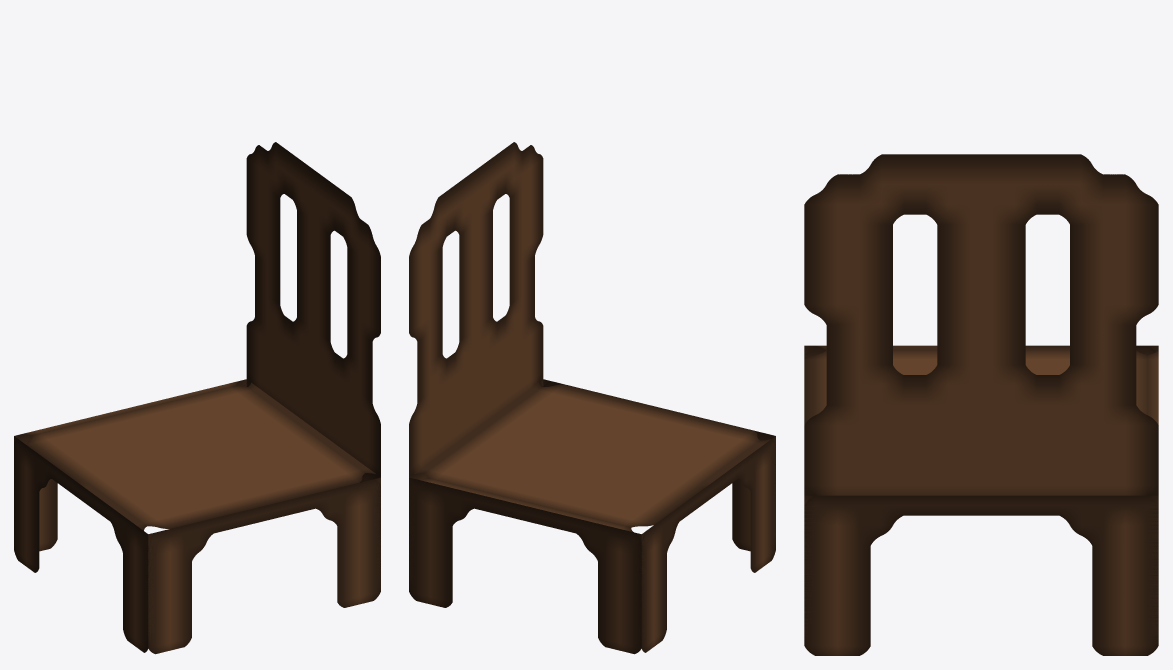
File: Scaled_Chair.dae
3 views of the same model, side by side, from view 1: azimuth 30°, elevation 25°; view 2: azimuth 150°, elevation 25°; view 3: azimuth 270°, elevation 25° (orthographic). The views are drawn at different scales.
Visible parts, largest first — view 1: Scaled Chair; view 2: Scaled Chair; view 3: Scaled Chair.
Part boxes in pixels (box(x1,y1,x2,y2)): Scaled Chair: box(14, 142, 380, 654); Scaled Chair: box(409, 142, 775, 654); Scaled Chair: box(804, 154, 1158, 655).
Bounding box in the file's own units: 1 × 2 × 1.
1 material, 1 textured.
